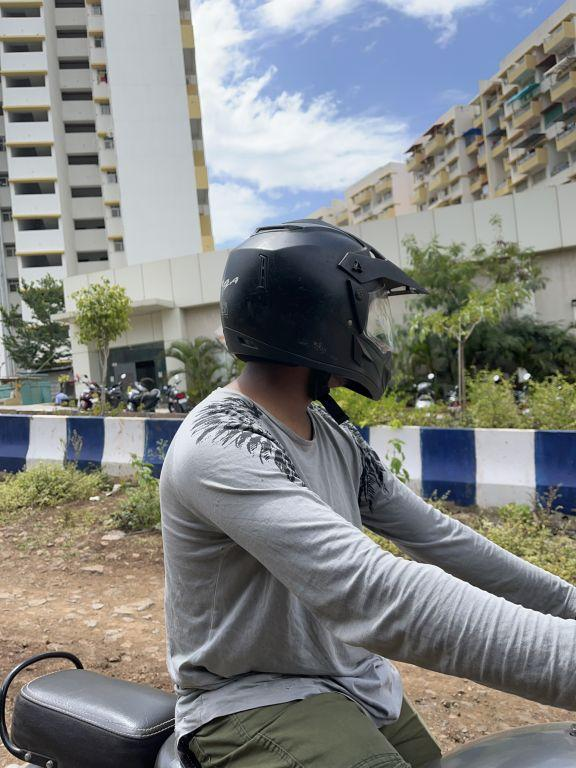helmet: (199, 204, 430, 418)
